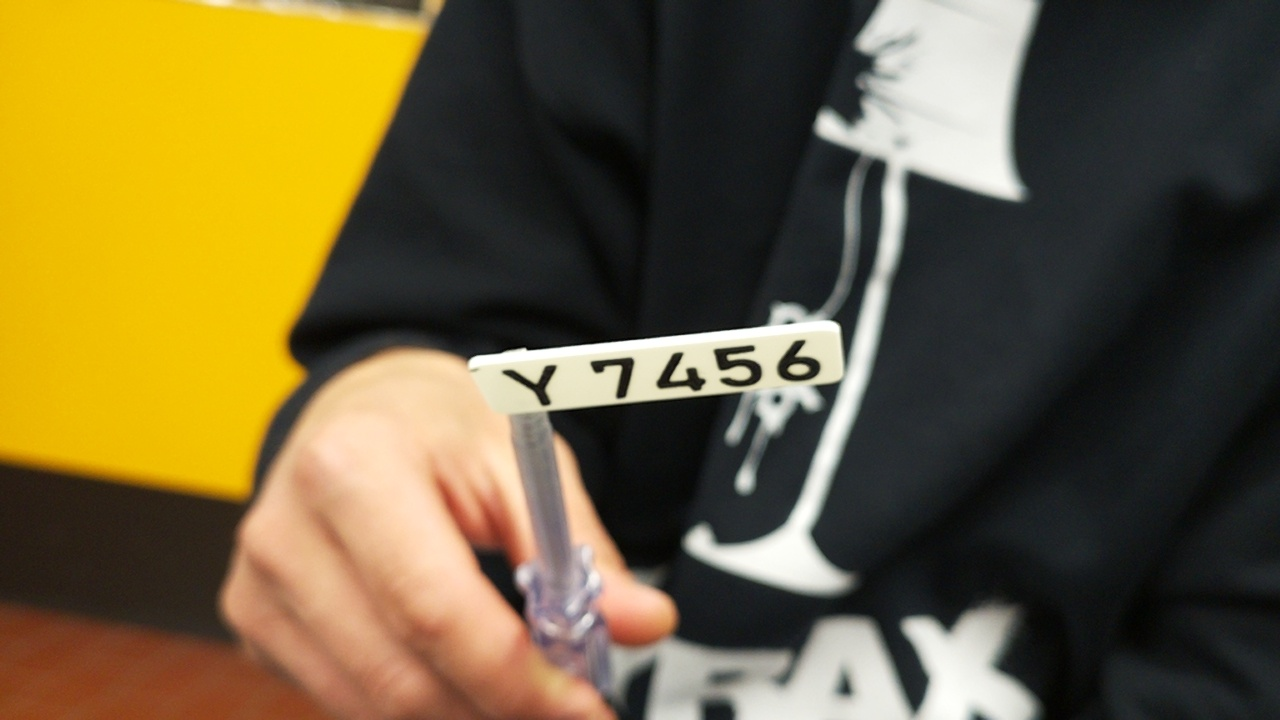license_plate: (465, 318, 845, 418)
